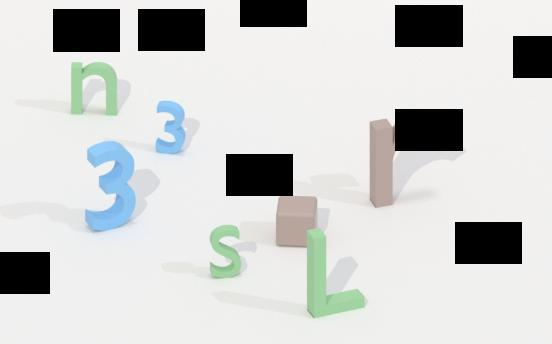3: (154, 96, 187, 159)
4: (84, 137, 137, 238)
R: (367, 112, 439, 214)
hop: (273, 191, 320, 253)
l: (303, 223, 368, 320)
n: (70, 56, 120, 119)
s: (204, 218, 243, 286)
